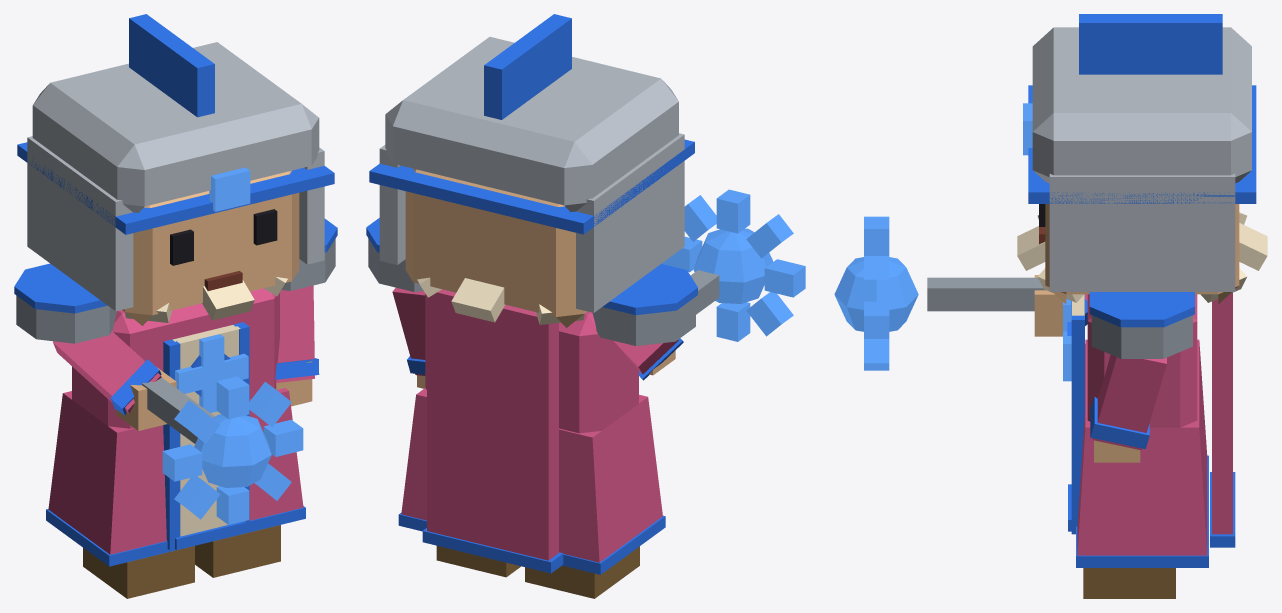
The model's file is cleric_super_rare.glb.
The picture shows the model from 3 angles, left to right: view 1: azimuth 30°, elevation 25°; view 2: azimuth 150°, elevation 25°; view 3: azimuth 270°, elevation 25°; orthographic projection. The views are drawn at different scales.
Visible parts, largest first — view 1: cleric_super_rare_mesh; view 2: cleric_super_rare_mesh; view 3: cleric_super_rare_mesh.
Part boxes in pixels (bbox=[...]): cleric_super_rare_mesh: bbox=[14, 14, 337, 598]; cleric_super_rare_mesh: bbox=[366, 14, 805, 598]; cleric_super_rare_mesh: bbox=[834, 14, 1267, 598].
Size of the model in its own units: 0.7988 by 1.3 by 0.9433.
2 materials, 2 textured.
